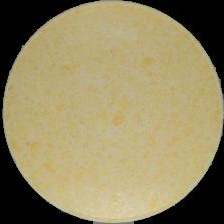23155-114: (0, 0, 224, 224)
